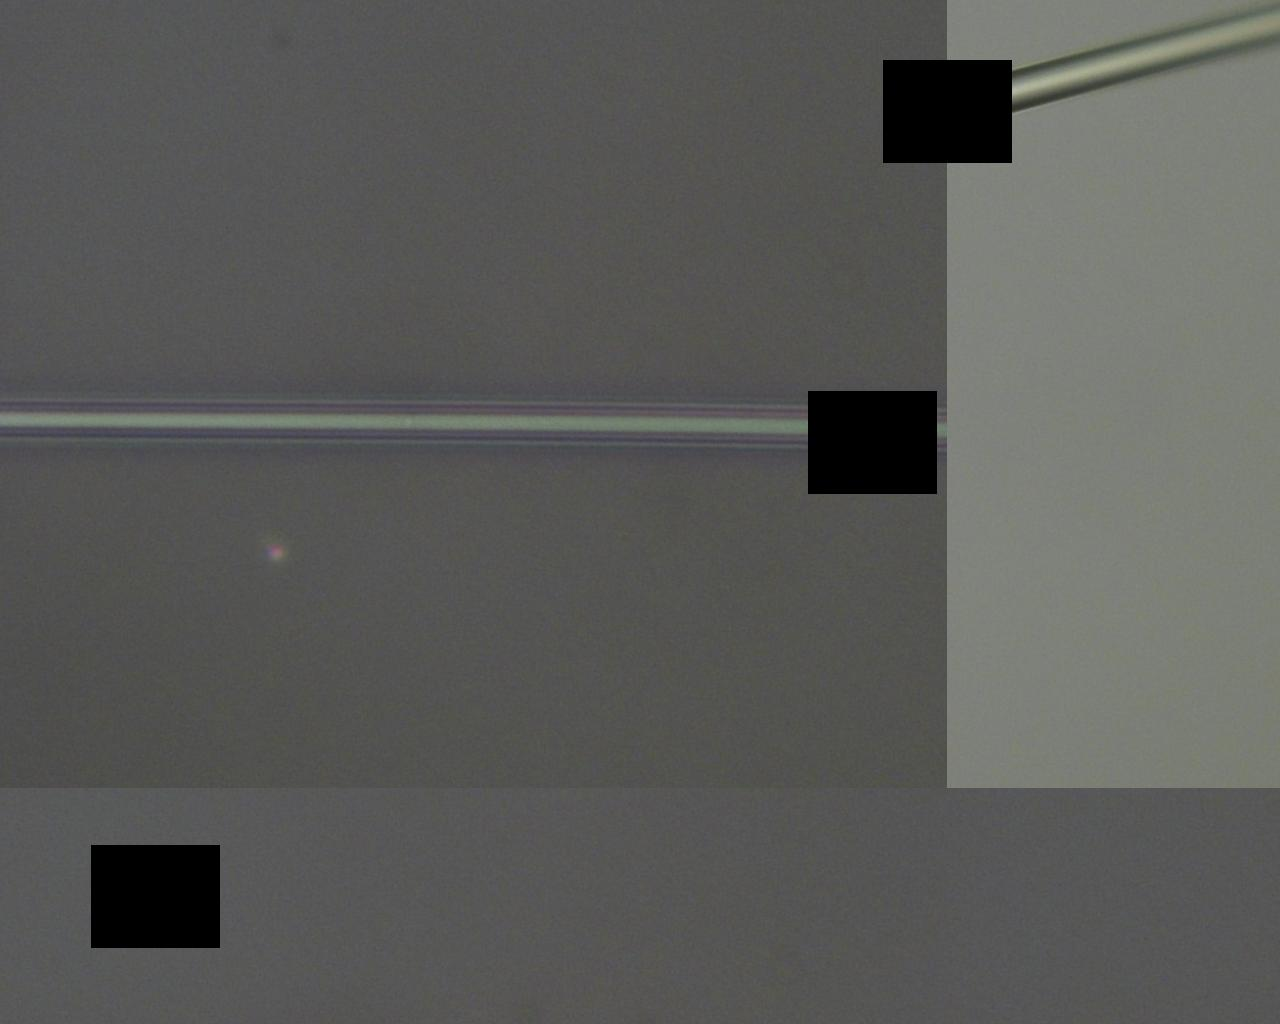fiber: (396, 0, 983, 1024)
